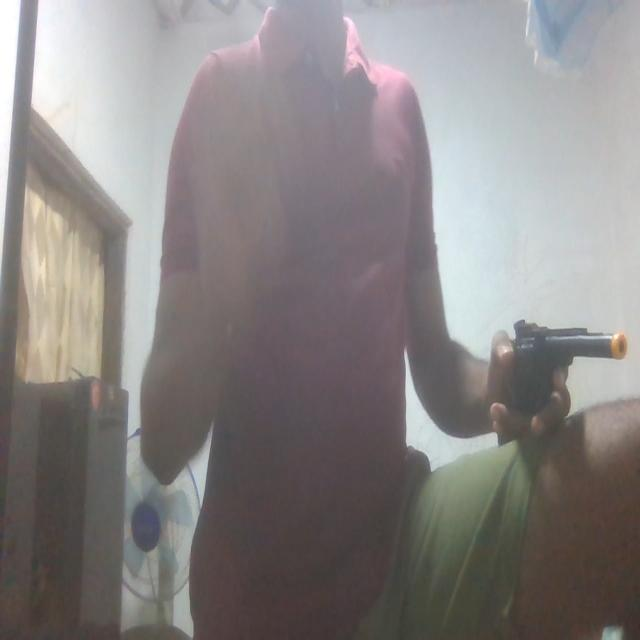Gun_Holder: (490, 308, 640, 472)
Person: (143, 0, 640, 640)
